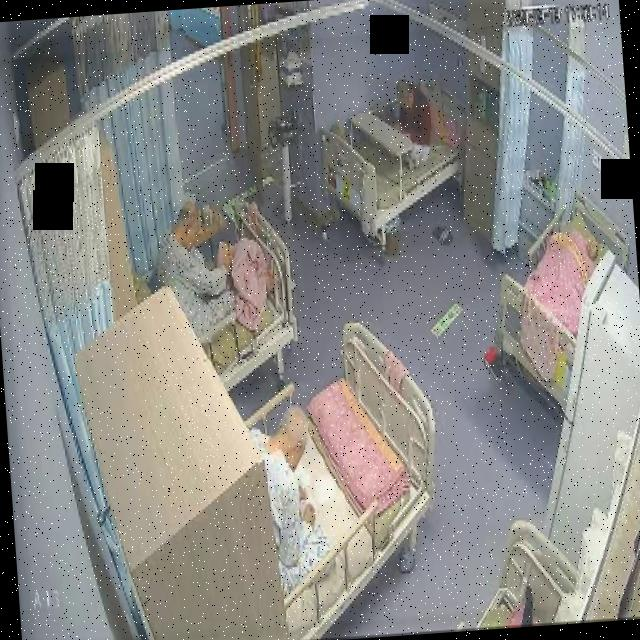bed: (233, 319, 449, 640), (484, 188, 638, 412), (154, 202, 298, 394), (318, 72, 472, 240)
patient: (252, 402, 334, 596), (153, 198, 237, 350), (388, 76, 433, 172)
sit: (152, 192, 282, 342), (251, 400, 334, 598), (388, 77, 434, 170)
